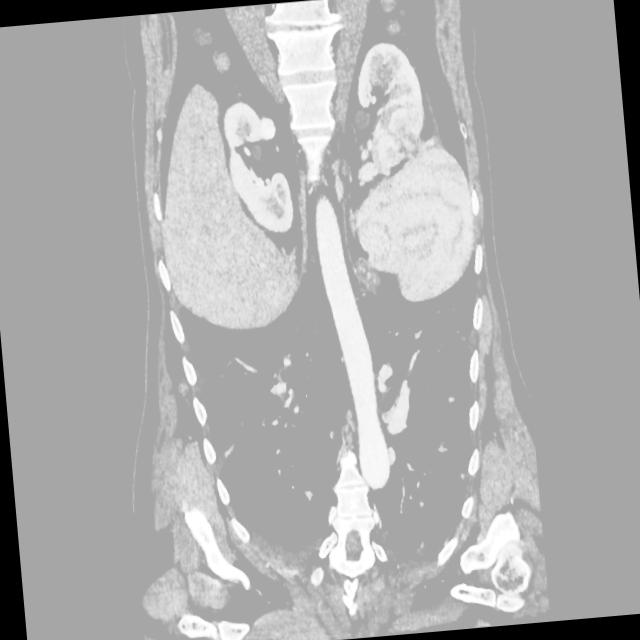TUMOR: (112, 61, 576, 574)
